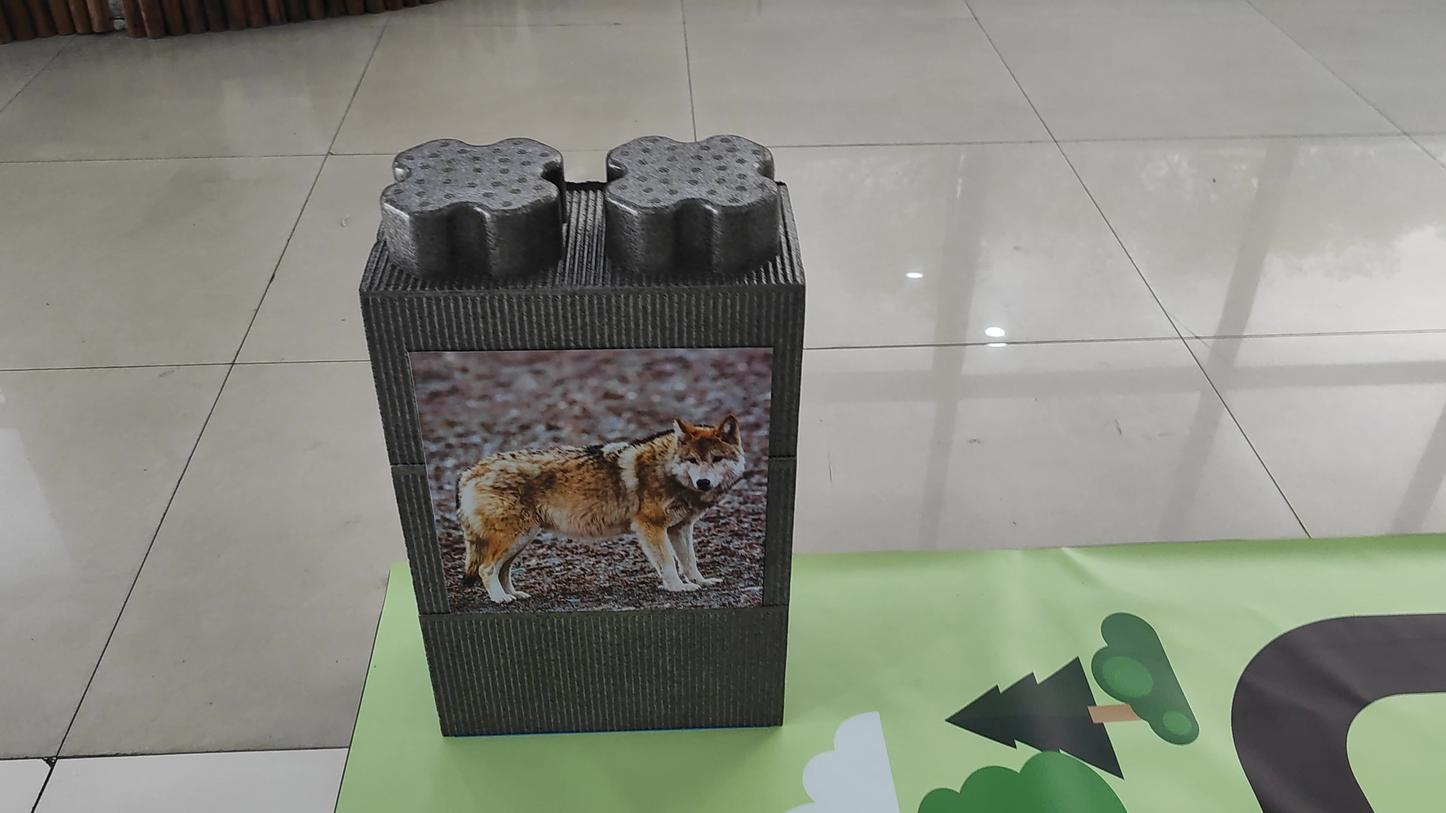wolf: (430, 389, 778, 615)
